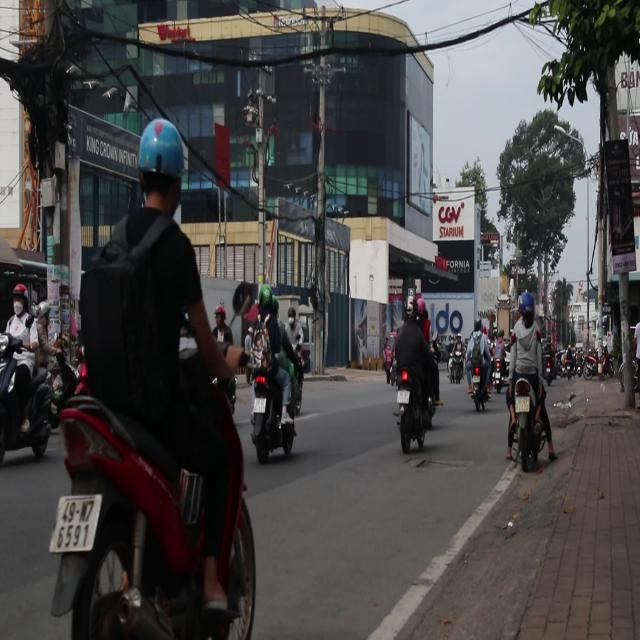motorbike: (55, 378, 253, 640), (1, 339, 71, 466), (388, 369, 436, 459), (510, 369, 550, 474), (251, 364, 289, 468), (465, 358, 491, 420), (489, 351, 508, 393)
